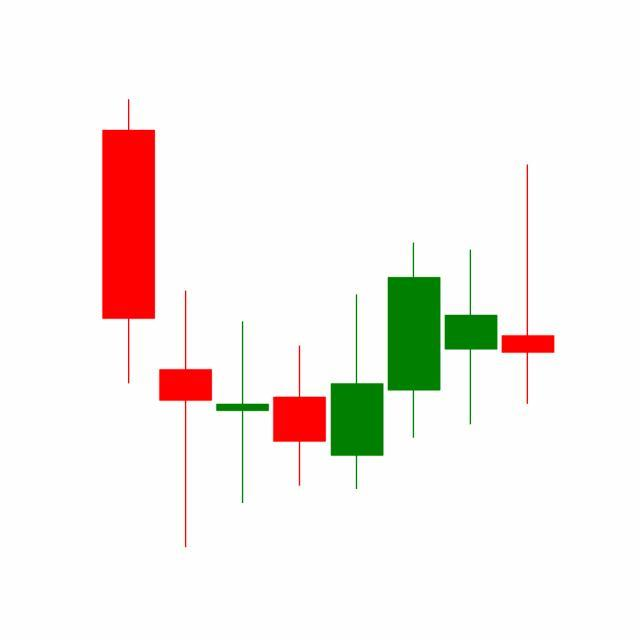Hikkake Pattern: (270, 161, 555, 494)
